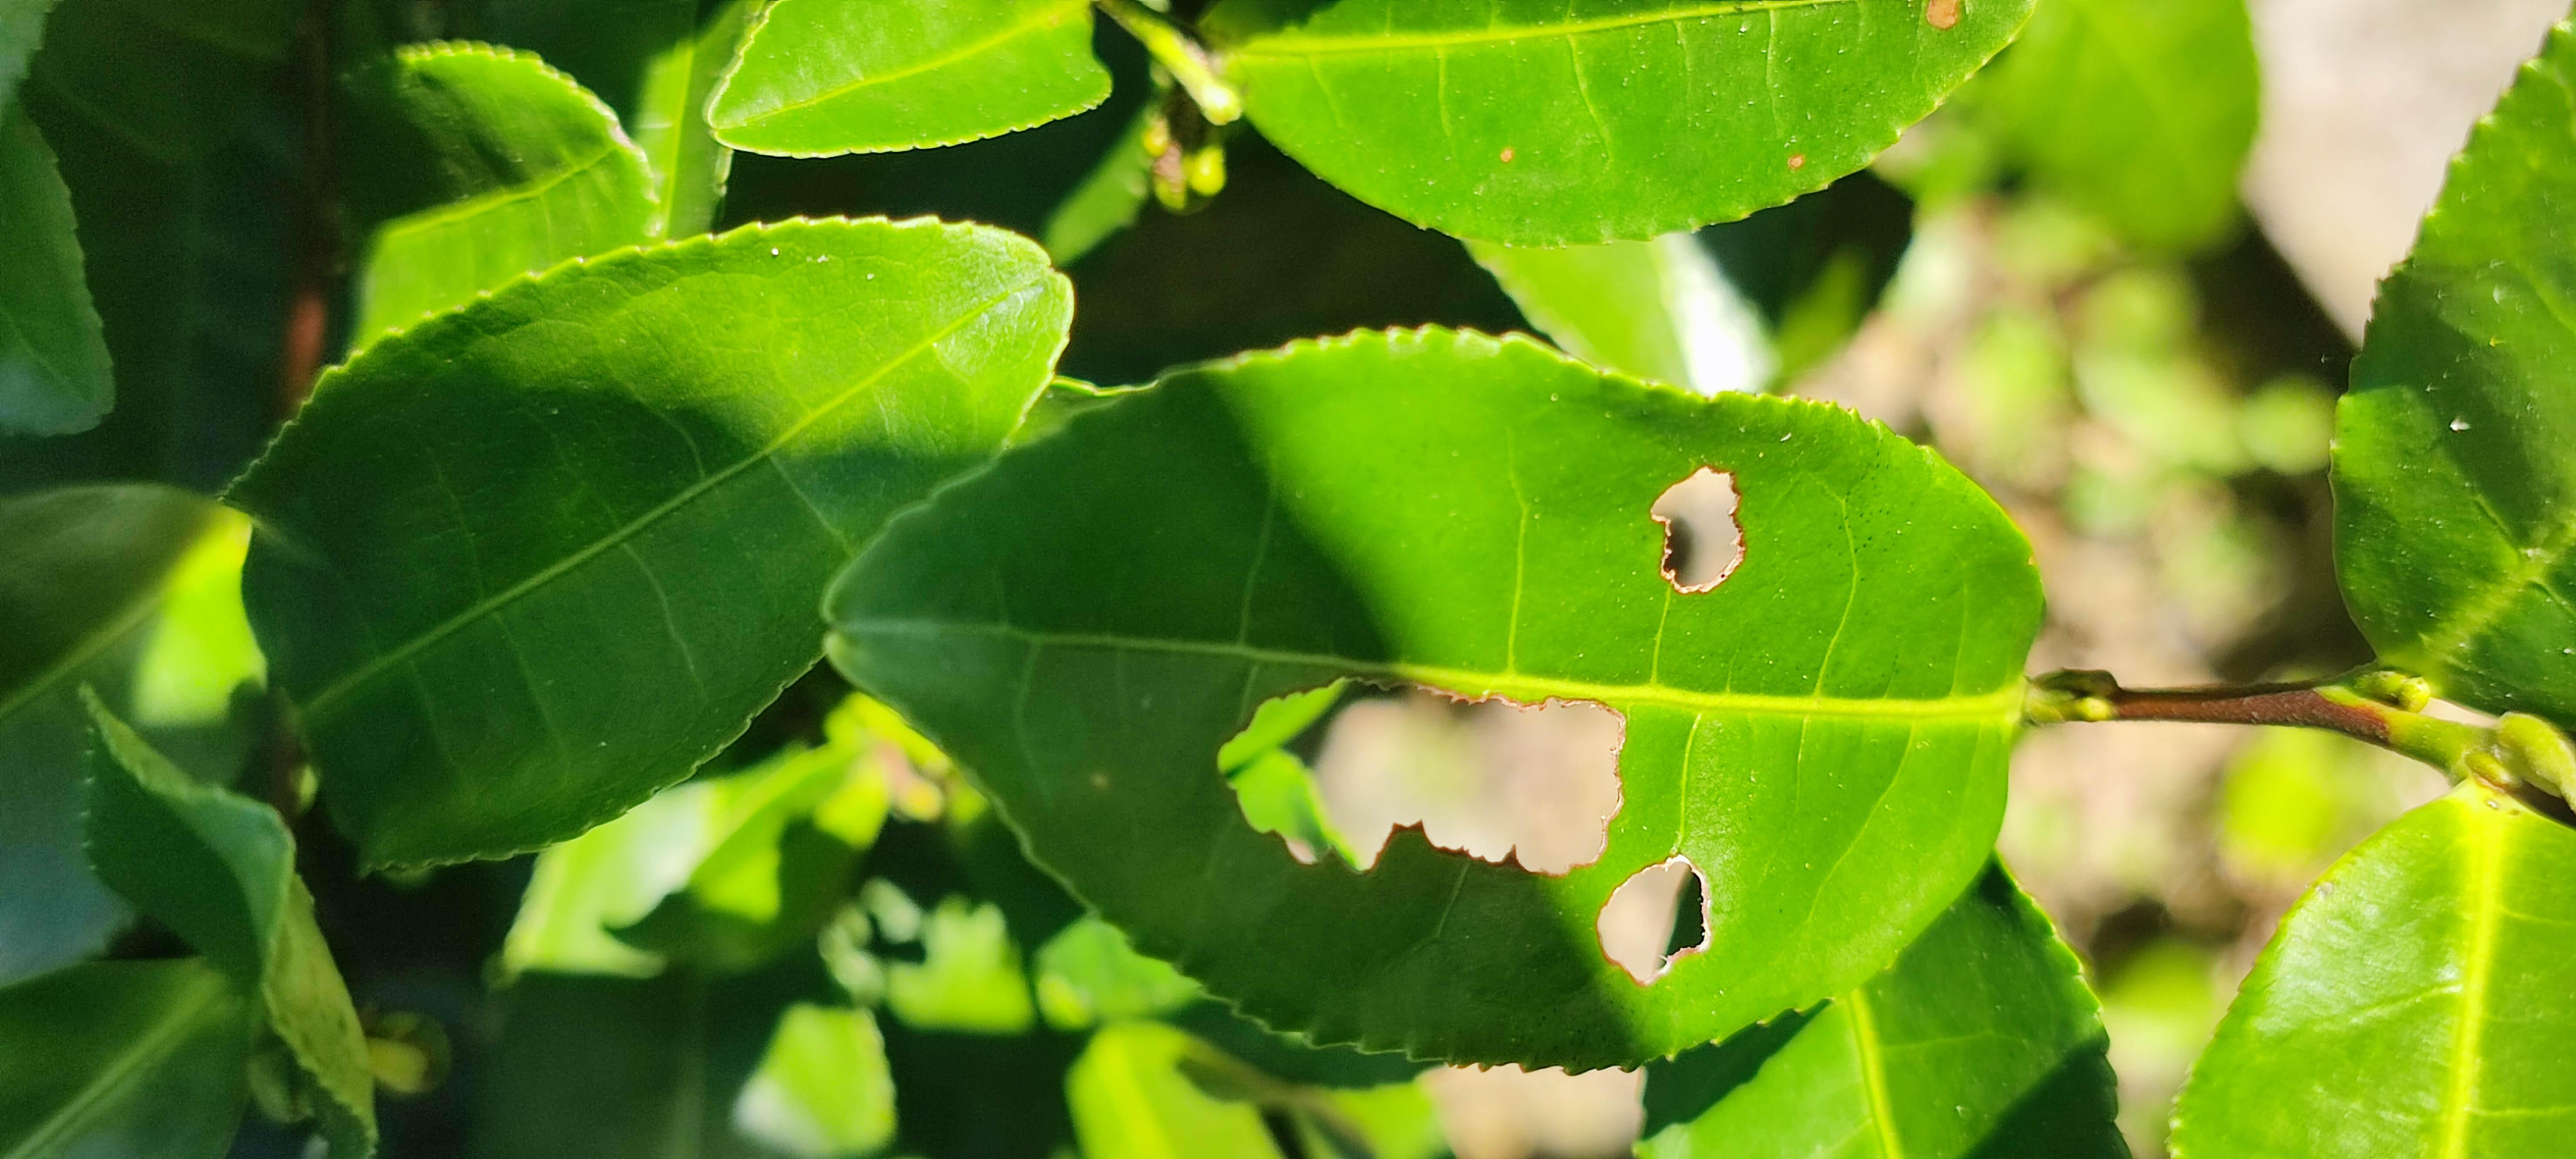chihuo_high: (823, 320, 2021, 1080)
healthy: (223, 204, 1078, 880), (701, 3, 1111, 161)
tanju_low: (1191, 2, 2044, 253)
